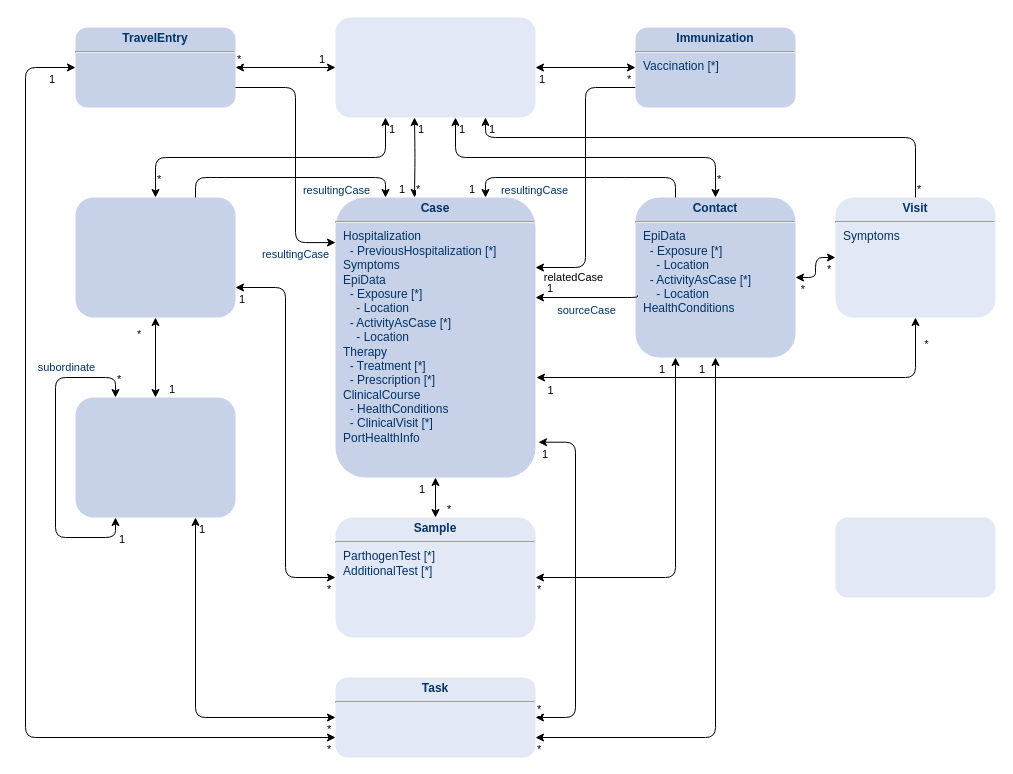
This 1013x774 diagram has some shape labels left out. The shapes that lost their labels are listed below. From the top down, each one's centre as x and y in pixels, then its label:
At point (435, 67): "Person PersonContactDetail [*] Location [*] ManualMessageLog [*]".
At point (155, 257): "EventParticipant".
At point (155, 457): "Event Action [*] Location".
At point (915, 557): "Document".
